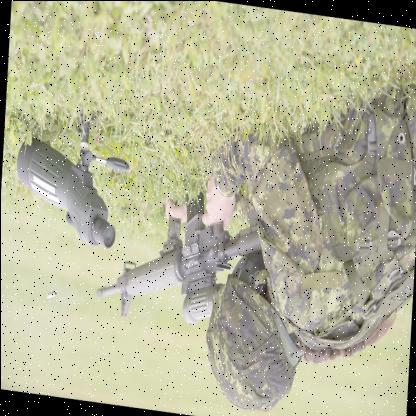rifle: (94, 184, 268, 333)
